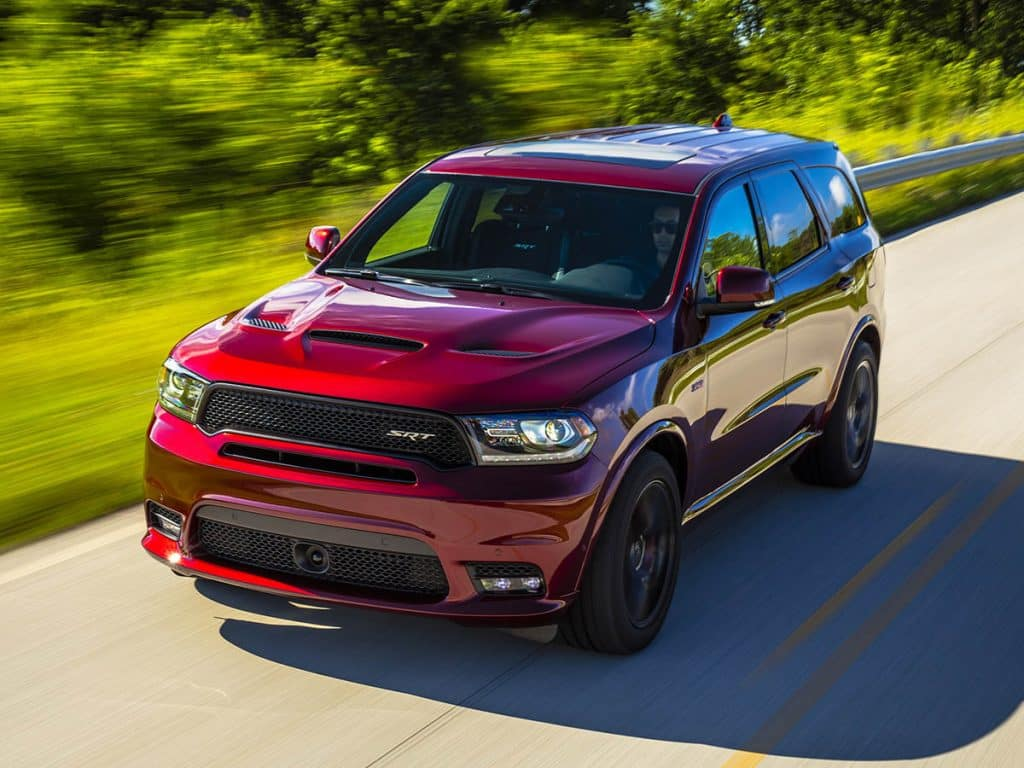car: (139, 121, 887, 655)
